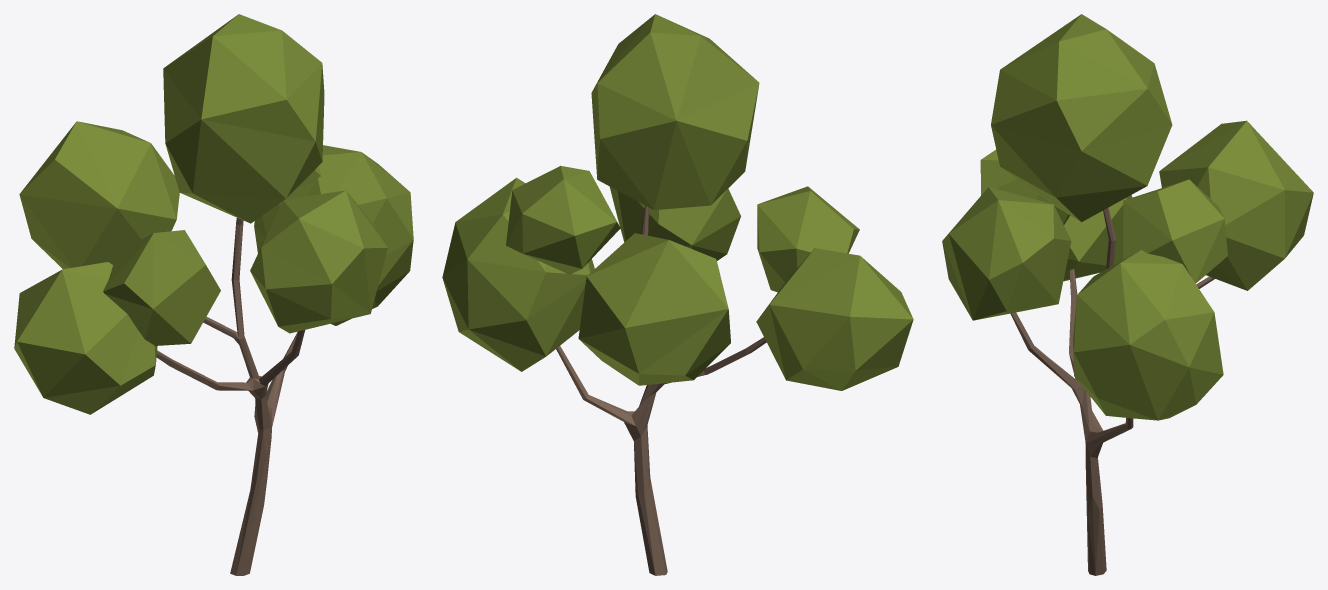
File: oak_1.obj
3 views of the same model, side by side, from view 1: azimuth 30°, elevation 25°; view 2: azimuth 150°, elevation 25°; view 3: azimuth 270°, elevation 25° (orthographic). The views are drawn at different scales.
Parts seen in each view (by area): view 1: oak_Cube.005; view 2: oak_Cube.005; view 3: oak_Cube.005.
Part boxes in pixels (x1,y1,x2,y2): oak_Cube.005: (14, 14, 413, 575); oak_Cube.005: (442, 14, 913, 575); oak_Cube.005: (942, 14, 1313, 575).
Bounding box in the file's own units: 8.07 × 9.95 × 6.16.
